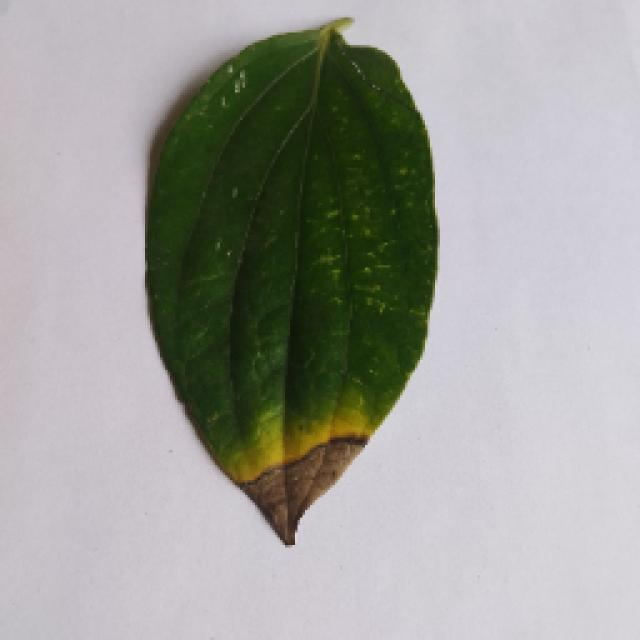footrot: (132, 15, 450, 540)
